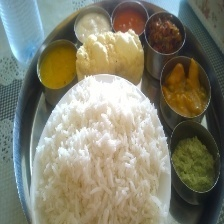sabzi: (157, 61, 213, 118)
